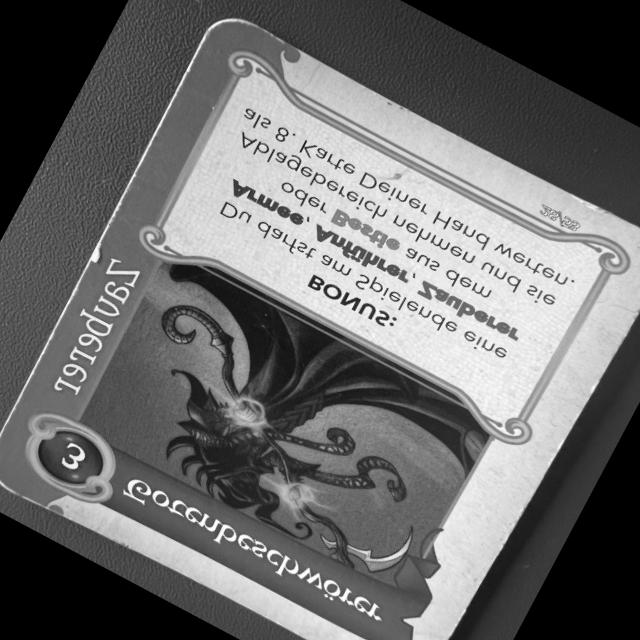Necromancer: (0, 0, 640, 640)
